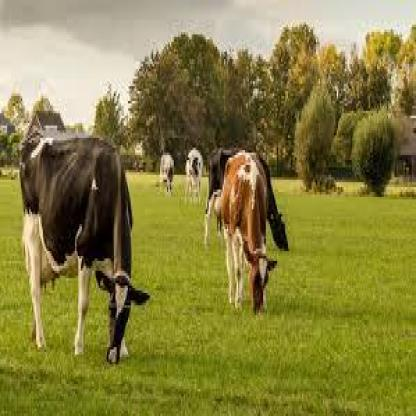cow: (20, 135, 148, 362), (221, 152, 277, 316), (204, 151, 290, 250), (184, 148, 204, 204), (161, 155, 174, 197)
